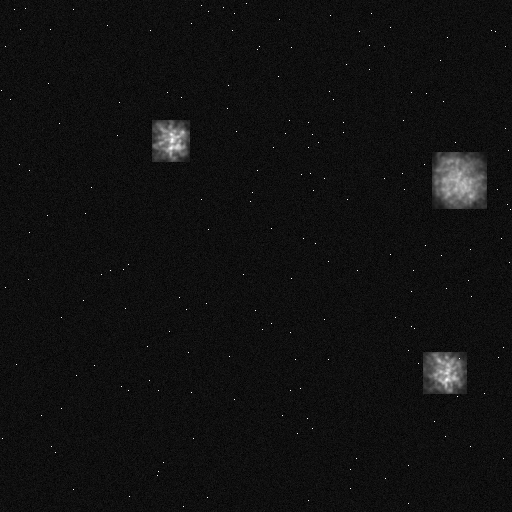lam1: (423, 352, 466, 393), (152, 120, 189, 161)
lam3: (432, 152, 486, 208)
